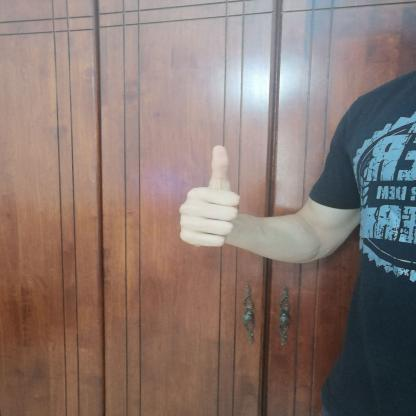ALIF: (169, 132, 247, 254)
